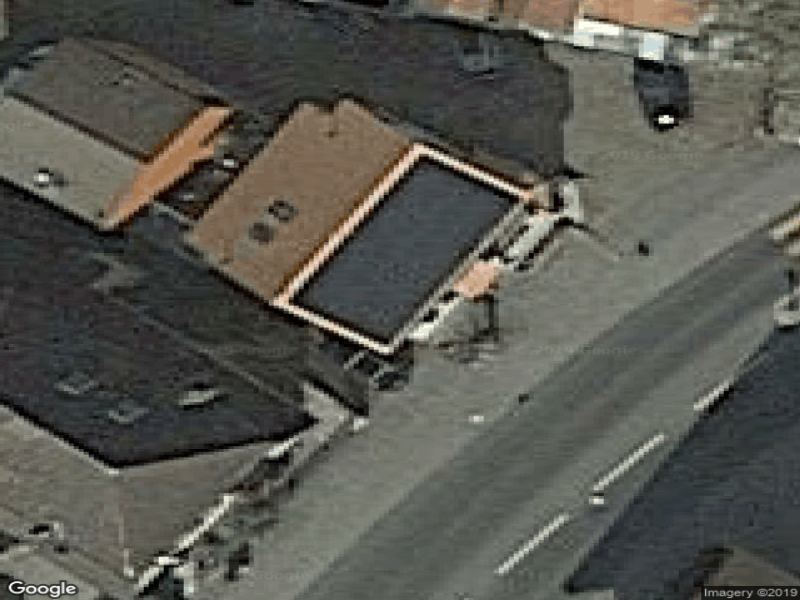pv: (290, 153, 520, 345)
